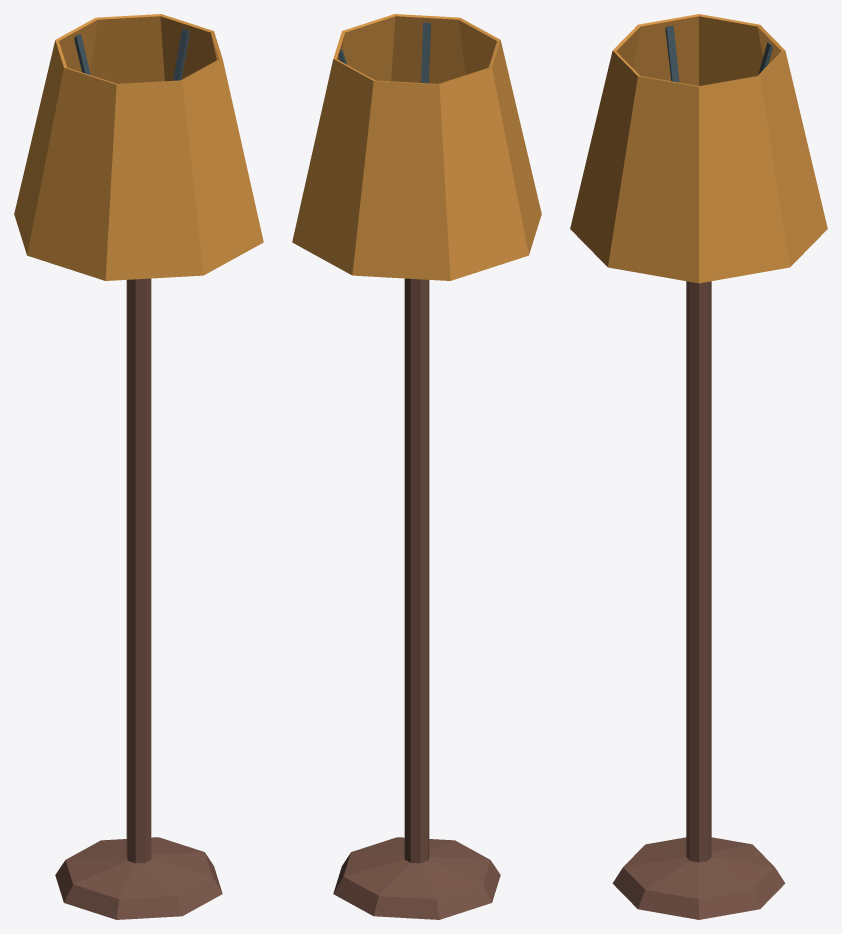
The model's file is Standing_lamp_01.obj.
The picture shows the model from 3 angles, left to right: view 1: azimuth 30°, elevation 25°; view 2: azimuth 150°, elevation 25°; view 3: azimuth 270°, elevation 25°; orthographic projection.
Parts seen in each view (by area): view 1: Standing_lamp_01_Circle.003; view 2: Standing_lamp_01_Circle.003; view 3: Standing_lamp_01_Circle.003.
Part boxes in pixels (box(x1,y1,x2,y2)): Standing_lamp_01_Circle.003: box(14, 14, 263, 919); Standing_lamp_01_Circle.003: box(292, 14, 541, 919); Standing_lamp_01_Circle.003: box(570, 14, 827, 919).
Bounding box in the file's own units: 2.79 × 9.96 × 2.79.
